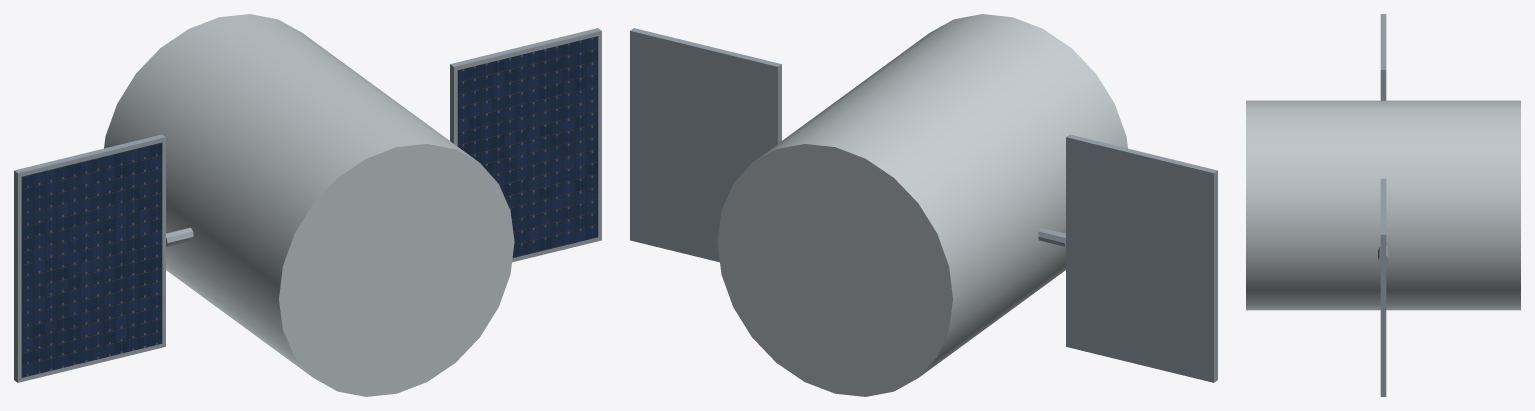
File: ref-arkon-11f664-24827.glb
3 views of the same model, side by side, from view 1: azimuth 30°, elevation 25°; view 2: azimuth 150°, elevation 25°; view 3: azimuth 270°, elevation 25° (orthographic). The views are drawn at different scales.
Visible parts, largest first — view 1: Spacecraft body, Photovoltaic laminates (×2), Array frame (×2); view 2: Spacecraft body, Array frame (×2); view 3: Spacecraft body, Array frame (×2).
Part boxes in pixels (x1,y1,x2,y2): Spacecraft body: (104, 14, 514, 396); Photovoltaic laminates (×2): (21, 36, 598, 377); Array frame (×2): (14, 28, 601, 382); Spacecraft body: (717, 14, 1127, 396); Array frame (×2): (630, 28, 1217, 382); Spacecraft body: (1246, 100, 1520, 310); Array frame (×2): (1380, 14, 1386, 396).
Bounding box in the file's own units: 5.7 × 2.3 × 3.
Materials: 3 (1 with a texture image).
